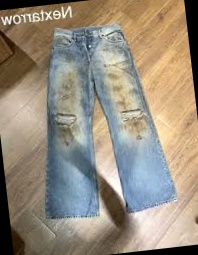earth: (108, 69, 134, 111), (61, 78, 77, 110), (122, 119, 147, 135), (60, 123, 79, 138)
